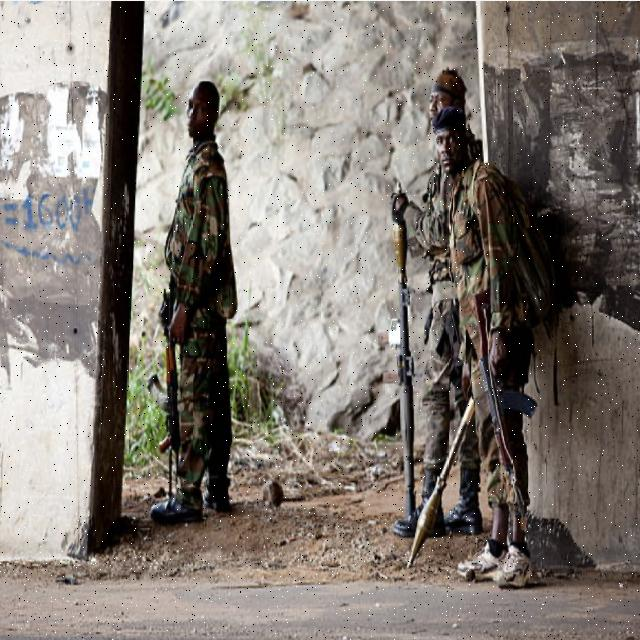bazooka: (412, 395, 479, 571), (389, 184, 420, 522)
